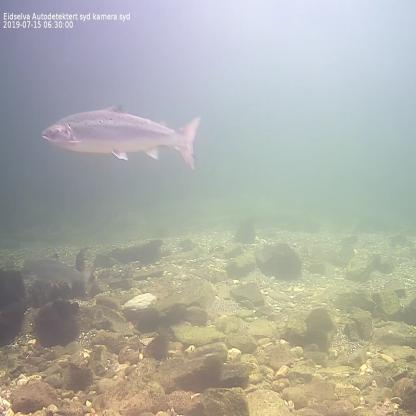salmon: (40, 98, 201, 173), (18, 251, 94, 291)
